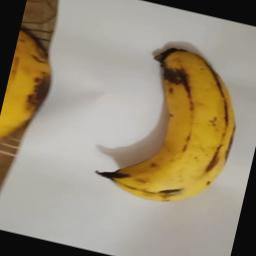Banana Unripe: (110, 34, 256, 214)
